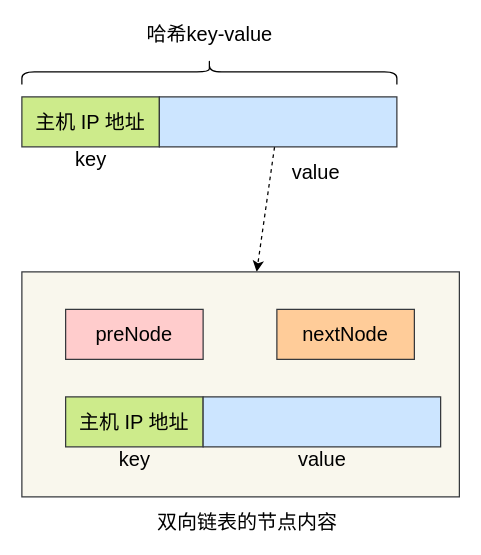
This 481x555 diagram has some shape labels left out. Each missing label, with the centre of its shape:
主机信息: pixel 321 421
主机在双向链表里的节点: pixel 277 121
